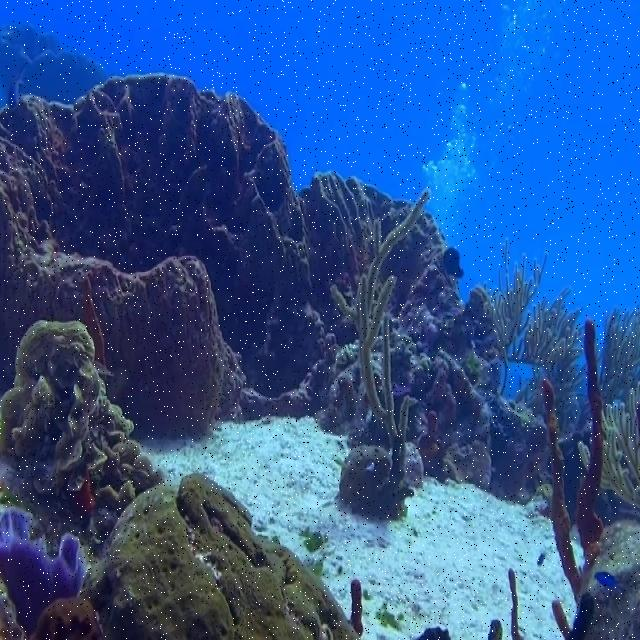fish: (594, 568, 630, 595)
reefs: (30, 475, 364, 639), (329, 189, 431, 524), (0, 317, 169, 511), (543, 320, 639, 639), (482, 229, 587, 410), (0, 507, 92, 632), (601, 381, 639, 512), (601, 305, 639, 403)
